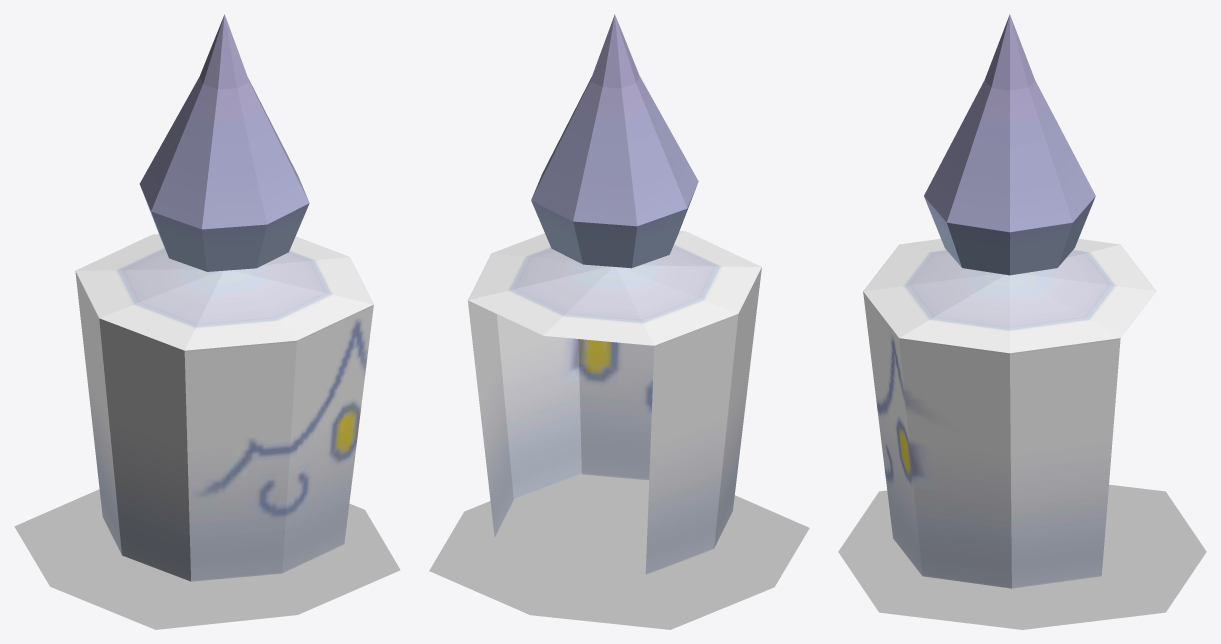
File: rousokustand.obj
The picture shows the model from 3 angles, left to right: view 1: azimuth 30°, elevation 25°; view 2: azimuth 150°, elevation 25°; view 3: azimuth 270°, elevation 25°; orthographic projection. The views are drawn at different scales.
Visible parts, largest first — view 1: rousoku2, rousoku; view 2: rousoku2, rousoku; view 3: rousoku2, rousoku.
Part boxes in pixels (x1,y1,x2,y2): rousoku2: (75,14,373,581); rousoku: (14,489,400,629); rousoku2: (468,14,761,574); rousoku: (429,474,809,629); rousoku2: (863,14,1156,588); rousoku: (838,484,1206,629).
Bounding box in the file's own units: 1.53 × 2.5 × 1.53.
